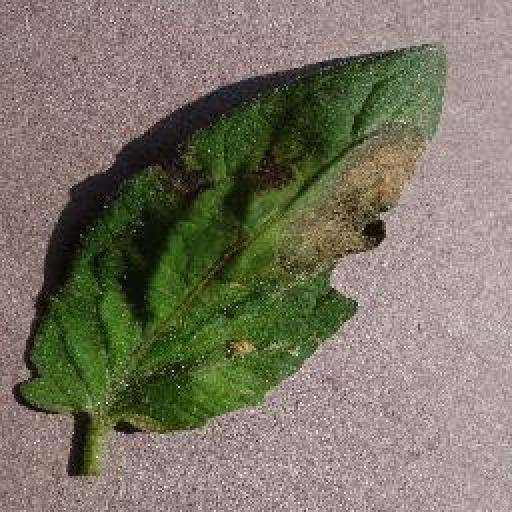Late Blight: (15, 42, 449, 438)
